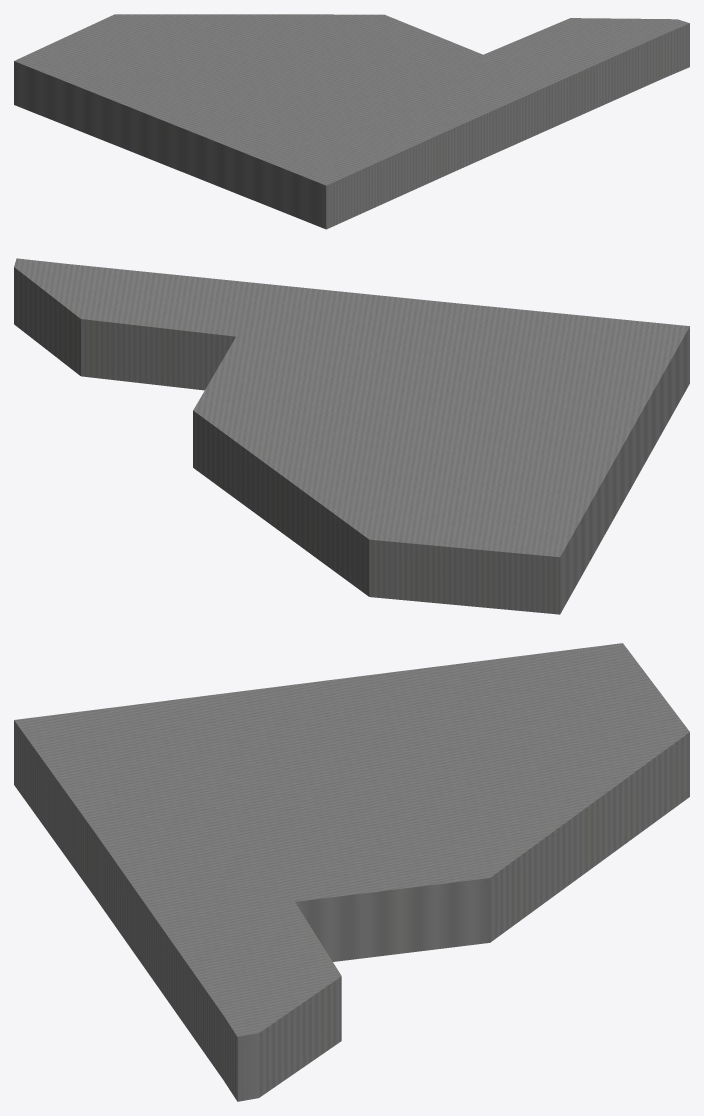
Rendered from sbgr_galpao_carga.leve.glb.
3 views of the same model, one above another, from view 1: azimuth 30°, elevation 25°; view 2: azimuth 150°, elevation 25°; view 3: azimuth 270°, elevation 25° (orthographic). The views are drawn at different scales.
Parts seen in each view (by area): view 1: sbgr_galpao_carga; view 2: sbgr_galpao_carga; view 3: sbgr_galpao_carga.
Part boxes in pixels (box(x1,y1,x2,y2)): sbgr_galpao_carga: box(14, 14, 689, 229); sbgr_galpao_carga: box(14, 258, 689, 614); sbgr_galpao_carga: box(14, 643, 689, 1101).
Bounding box in the file's own units: 163 × 12.5 × 118.
Materials: 1 (1 with a texture image).
